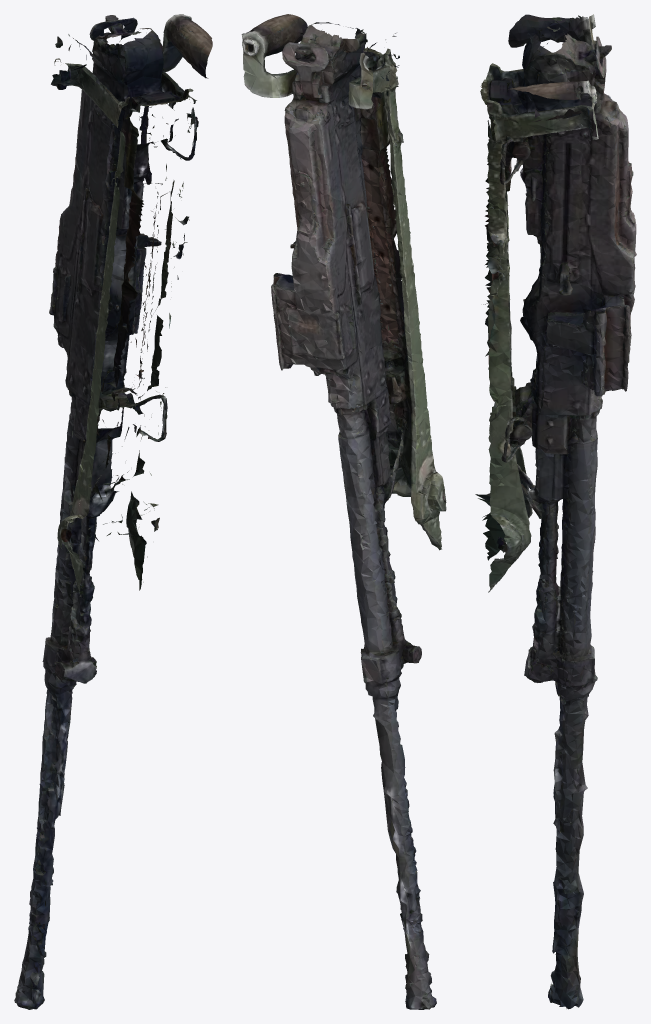
Rendered from pkt.glb.
3 views of the same model, side by side, from view 1: azimuth 30°, elevation 25°; view 2: azimuth 150°, elevation 25°; view 3: azimuth 270°, elevation 25° (orthographic). The views are drawn at different scales.
Visible parts, largest first — view 1: pkt; view 2: pkt; view 3: pkt.
Part boxes in pixels (x1,y1,x2,y2): pkt: (14,14,212,1009); pkt: (241,14,446,1009); pkt: (475,14,636,1009).
Bounding box in the file's own units: 0.2272 × 1.12 × 0.1626.
1 material, 1 textured.
